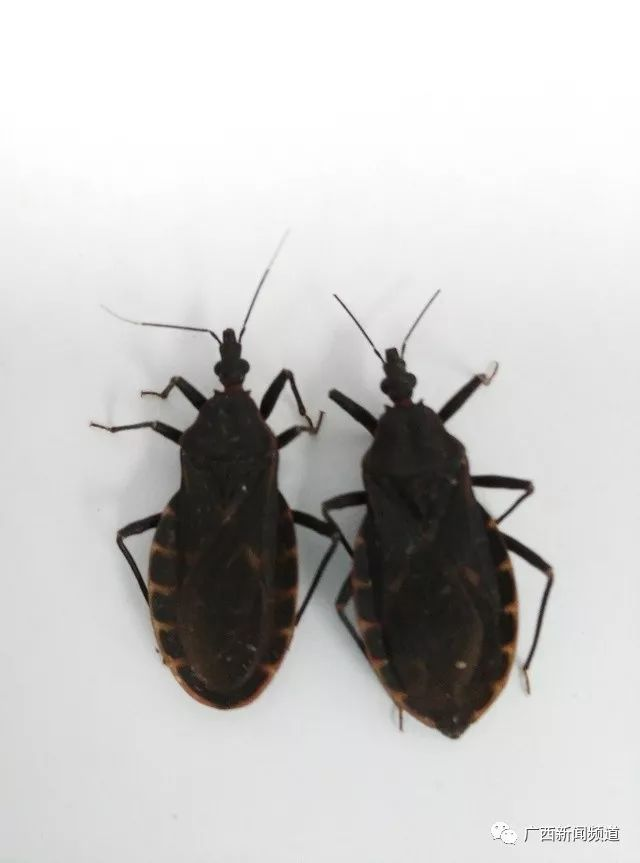chunchong: (330, 313, 555, 743), (103, 321, 332, 713)
